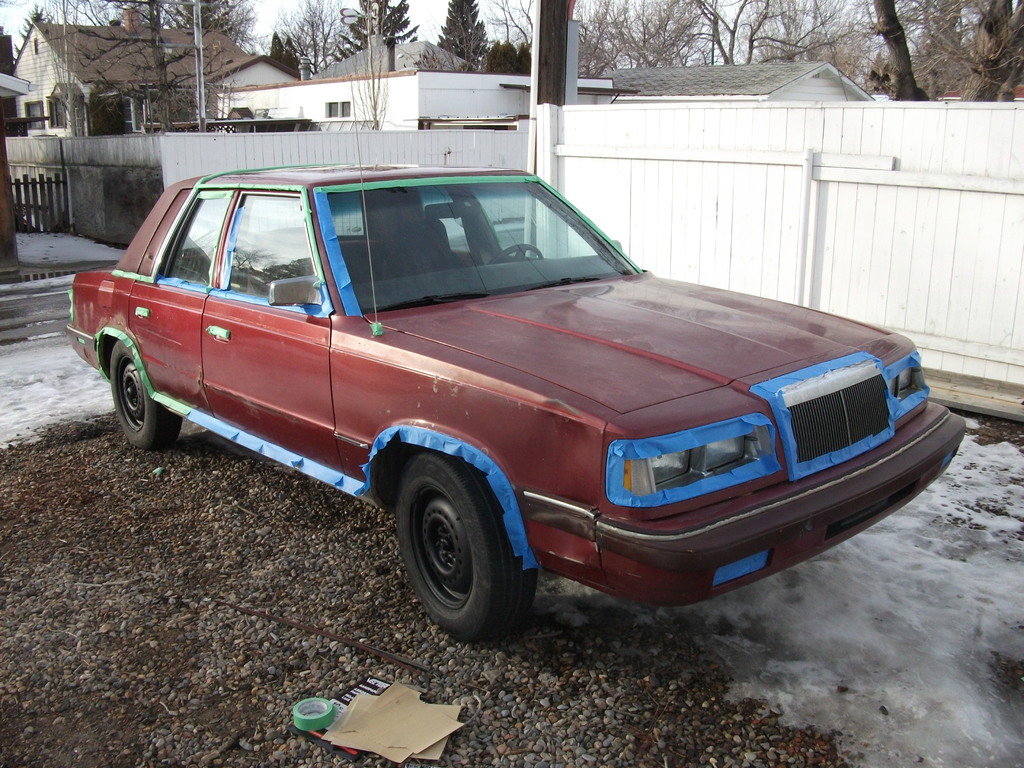Car: (65, 168, 967, 640)
